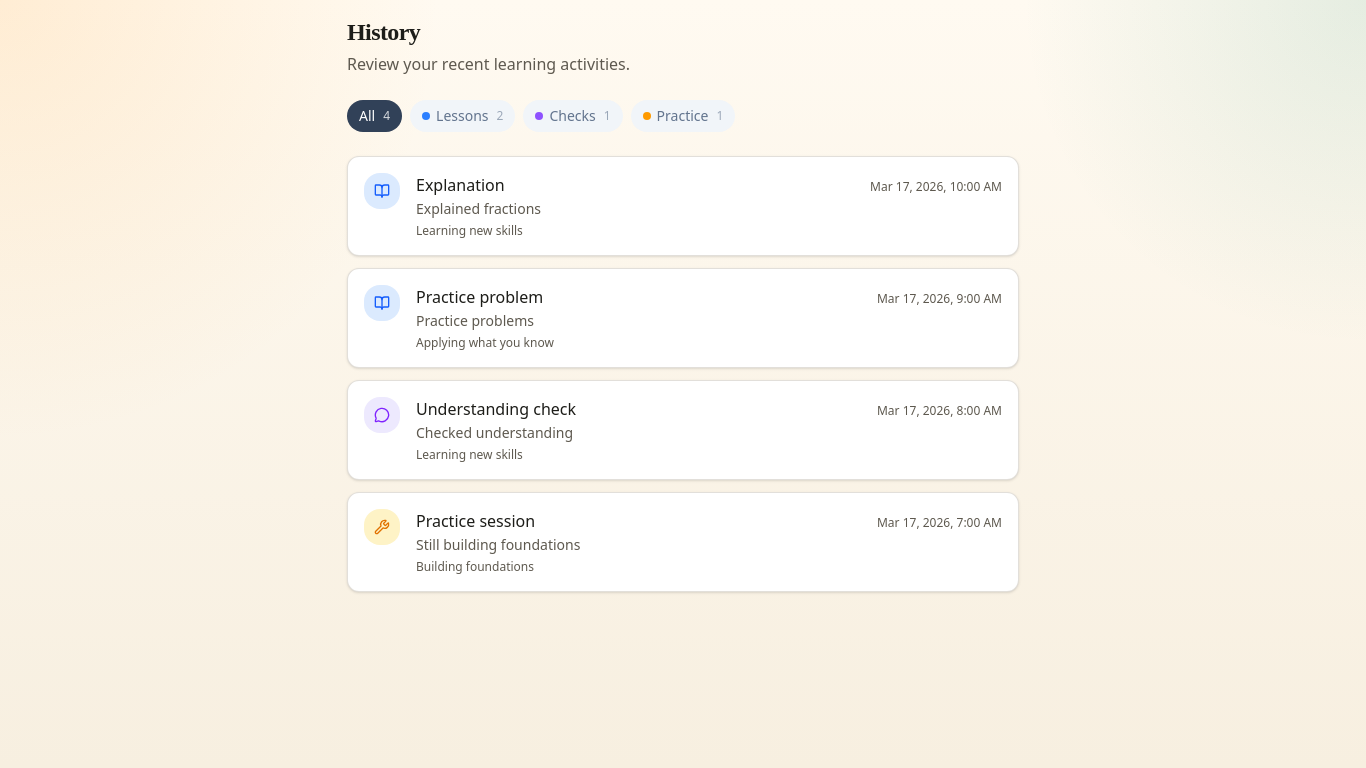
Scenario: History › filters to only lessons when Lessons tab clicked
Click the tab "Lessons 2".
click(463, 116)  # box [410,100,515,132]
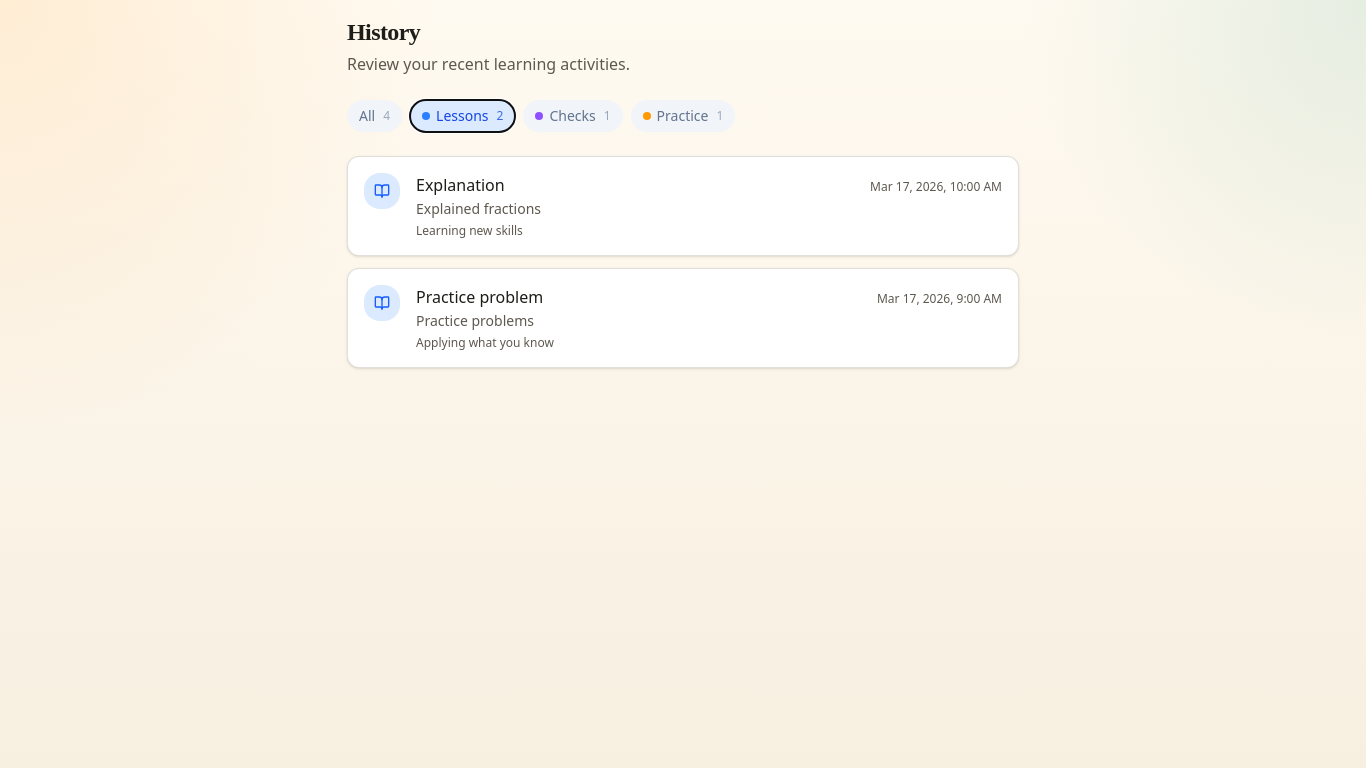
Expected: the text "Explained fractions" is shown, [416,199,541,218]
Expected: the text "Checked understanding" is gone
Expected: the text "Still building foundations" is gone
